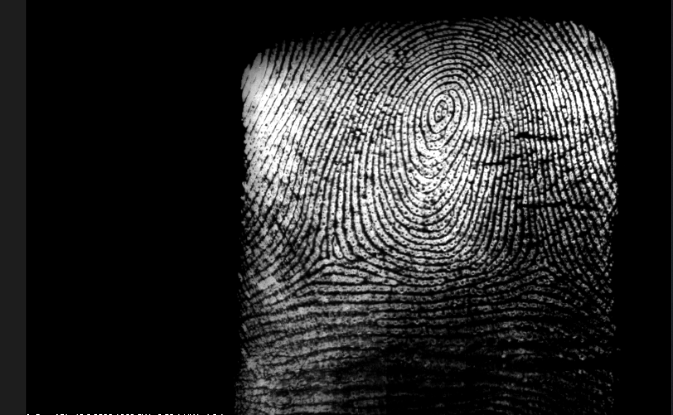nucelo: (420, 95, 456, 135)
verticilo: (314, 244, 346, 270), (531, 251, 562, 277)
